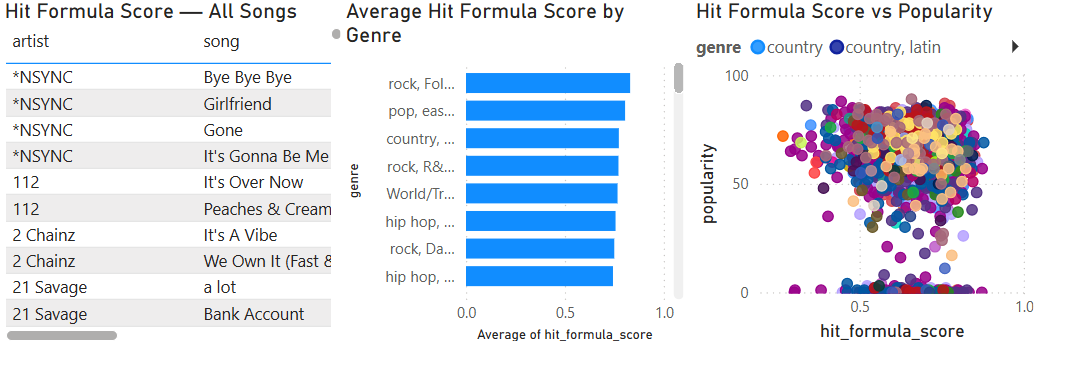

The page's visual inventory and layout, read from the dashboard file:
{"tool":"powerbi","page":{"name":"Hit Formula","canvas":[1280,720],"ordinal":2},"visuals":[{"type":"tableEx","title":"Hit Formula Score — All Songs","fields":{"Values":["05_hit_formula_score.artist","05_hit_formula_score.song","05_hit_formula_score.year","05_hit_formula_score.genre","05_hit_formula_score.popularity","05_hit_formula_score.hit_formula_score"]},"box":[0,0,280,280],"z":1},{"type":"clusteredBarChart","title":"Average Hit Formula Score by Genre","fields":{"Y":["Avg(05_hit_formula_score.hit_formula_score)"],"Category":["05_hit_formula_score.genre"]},"box":[272.5,0,280,280],"z":2},{"type":"scatterChart","title":"Hit Formula Score vs Popularity","fields":{"X":["05_hit_formula_score.hit_formula_score"],"Y":["05_hit_formula_score.popularity"],"Series":["05_hit_formula_score.genre"]},"box":[0,290,280,280],"z":3}]}

Visuals, with their boxes on the page's 1280x720 design canvas (x1, y1, x2, y2). These are canvas units, not pixel positions in the 1087x373 screenshot, which may show the page scaled, cropped or inside an application window:
"Hit Formula Score — All Songs" tableEx: {"left": 0, "top": 0, "right": 280, "bottom": 280}
"Average Hit Formula Score by Genre" clusteredBarChart: {"left": 272, "top": 0, "right": 552, "bottom": 280}
"Hit Formula Score vs Popularity" scatterChart: {"left": 0, "top": 290, "right": 280, "bottom": 570}
